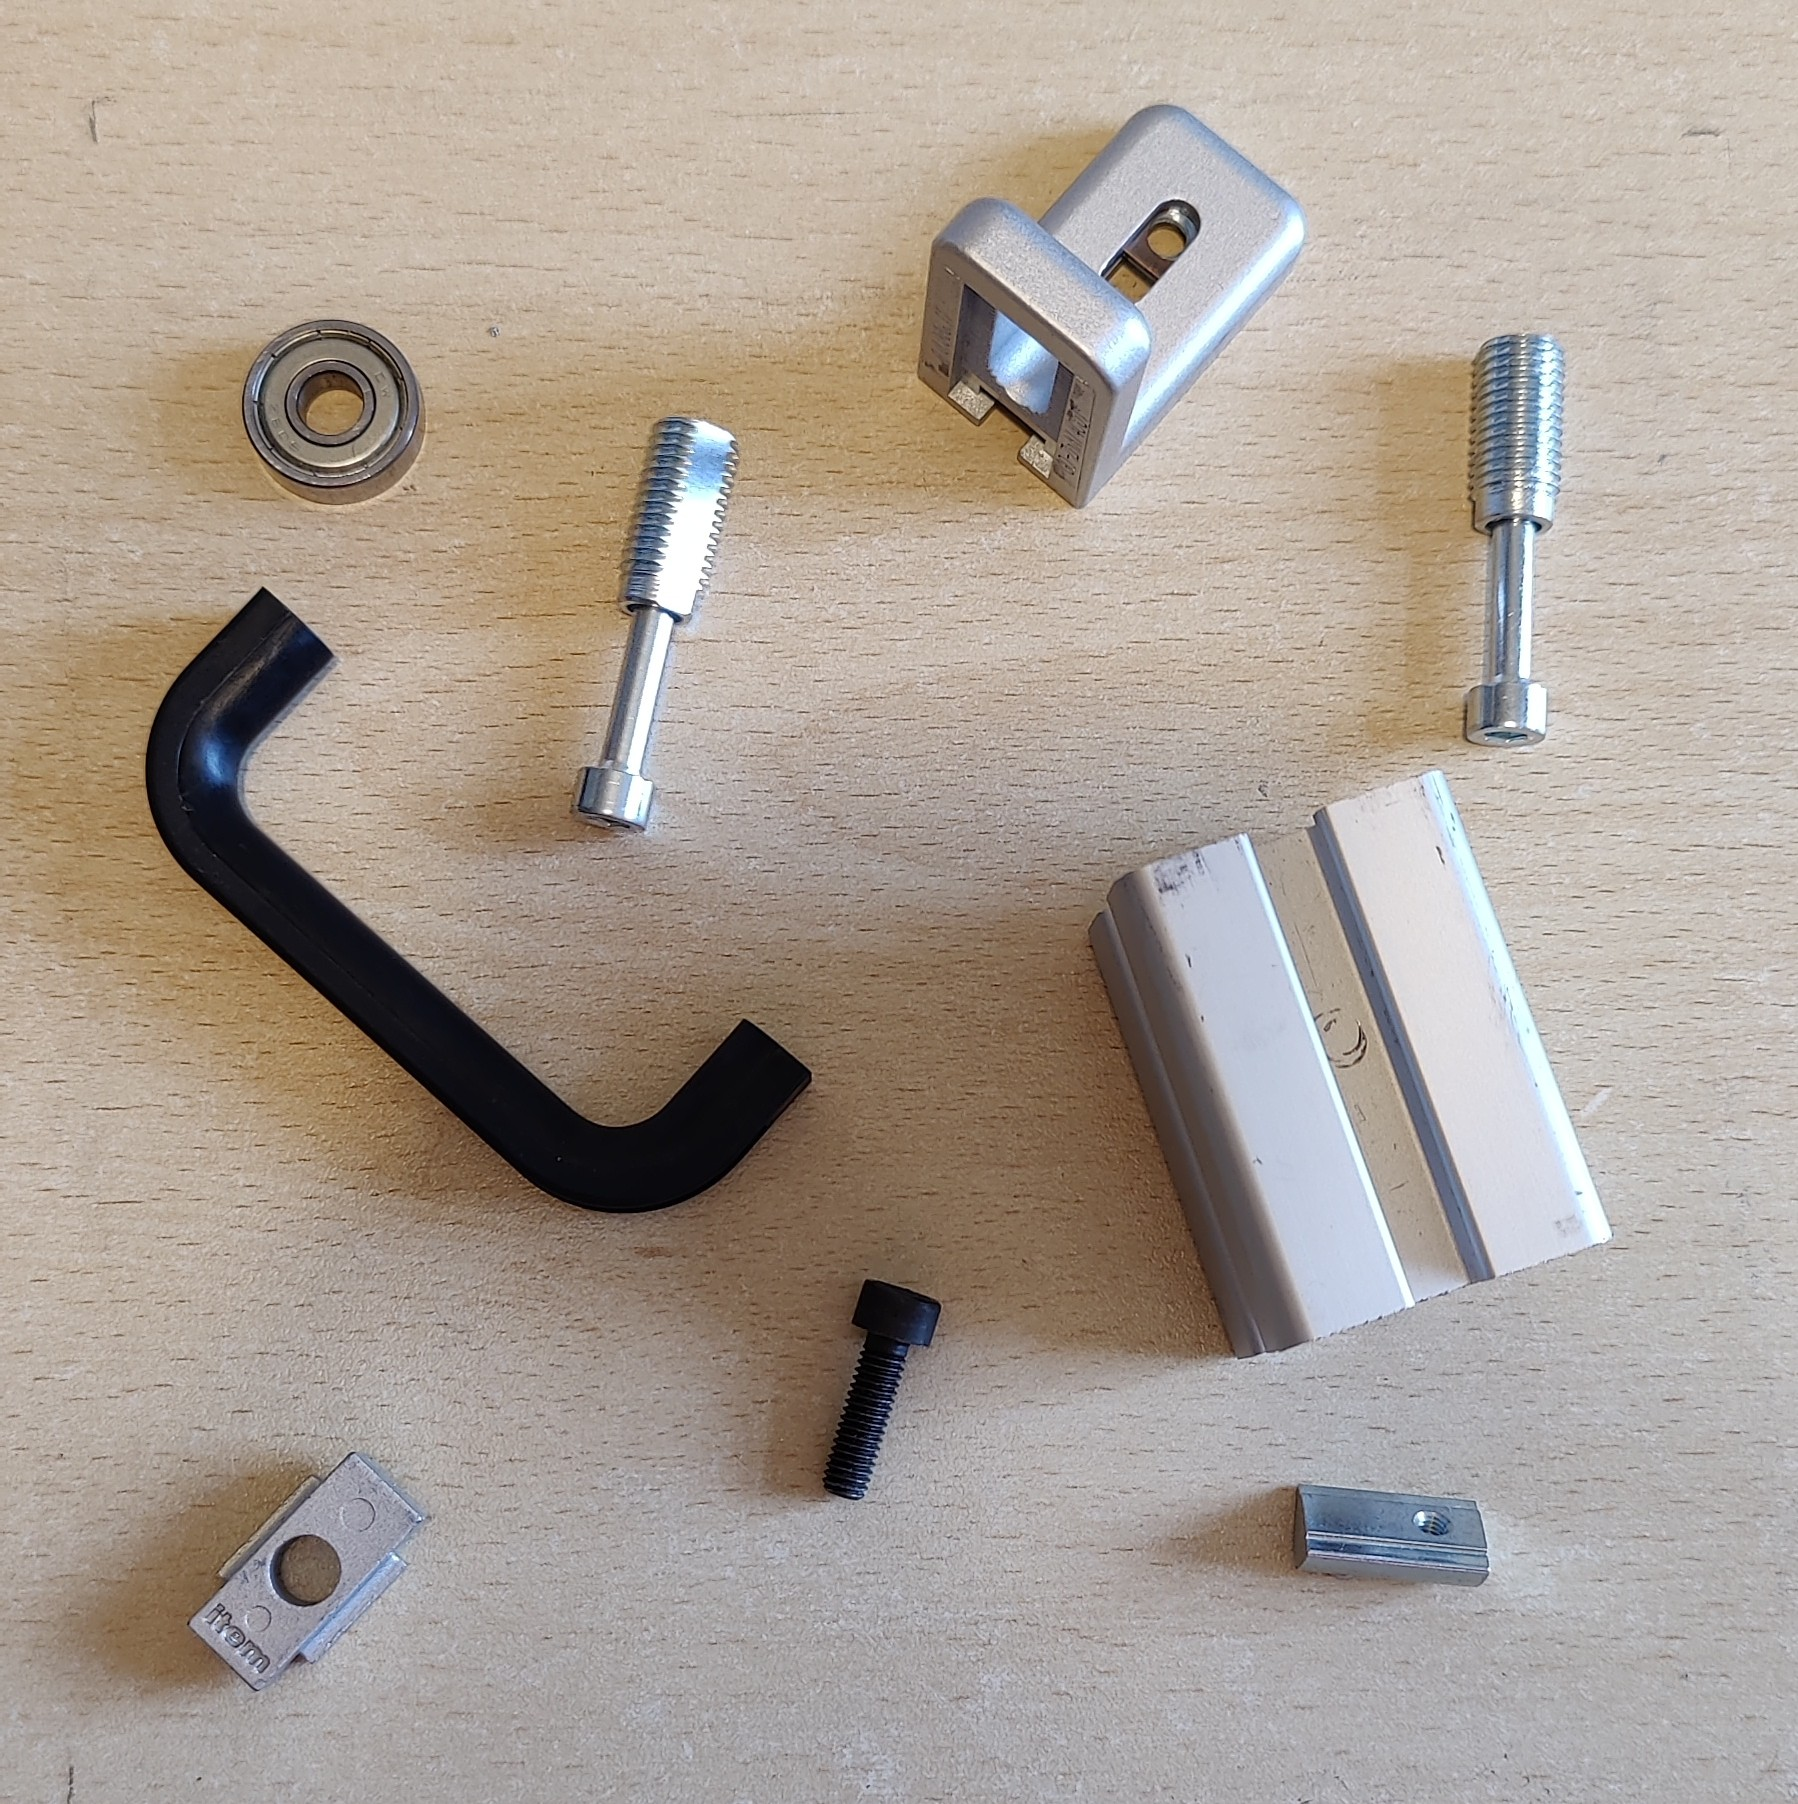Aluminium Extension: (1082, 769, 1617, 1363)
Ball Bearing: (240, 318, 428, 509)
Multiwinkel: (911, 100, 1307, 512)
Pull Handle: (142, 581, 815, 1215)
Shoulder Socket Head Cap Screw: (565, 411, 744, 838), (1459, 329, 1569, 752)
Socket Head Cap Screw: (818, 1276, 943, 1503)
T Nut Square: (184, 1447, 435, 1694)
T Spring Nut: (1284, 1481, 1493, 1590)
